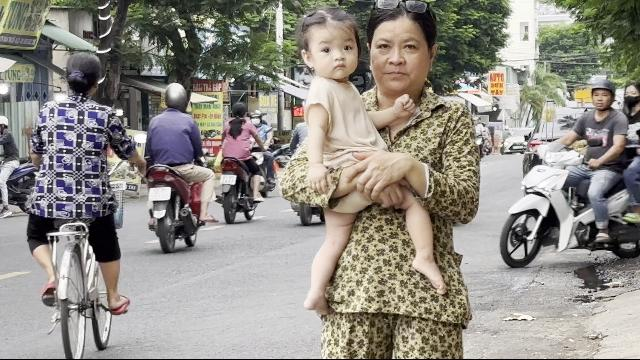helmet: (588, 77, 616, 111), (162, 82, 188, 110)
licenseplate: (149, 187, 171, 201), (220, 174, 236, 184)
motorcyclist: (498, 73, 638, 265), (140, 81, 212, 251), (214, 100, 264, 222)
nohelmet: (623, 81, 639, 118), (230, 101, 246, 119)
